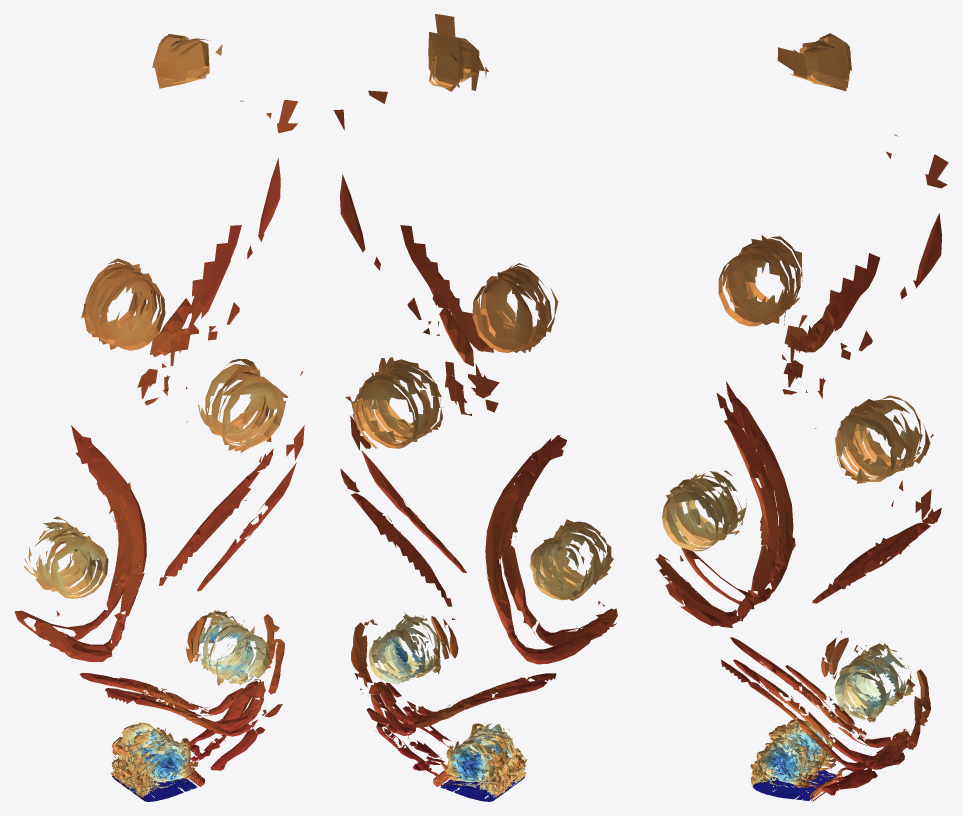
File: flowfield_1_ViscosityEddy.glb
3 views of the same model, side by side, from view 1: azimuth 30°, elevation 25°; view 2: azimuth 150°, elevation 25°; view 3: azimuth 330°, elevation 25° (orthographic). The views are drawn at different scales.
Parts seen in each view (by area): view 1: Renderer Node; view 2: Renderer Node; view 3: Renderer Node.
Boxes of the visible parts, x1=… form: Renderer Node: x1=14, y1=34, x2=304, y2=801; Renderer Node: x1=333, y1=14, x2=617, y2=801; Renderer Node: x1=655, y1=33, x2=948, y2=801.
Size of the model in its own units: 5.21 by 13.5 by 1.03.
Materials: 1 (1 with a texture image).
